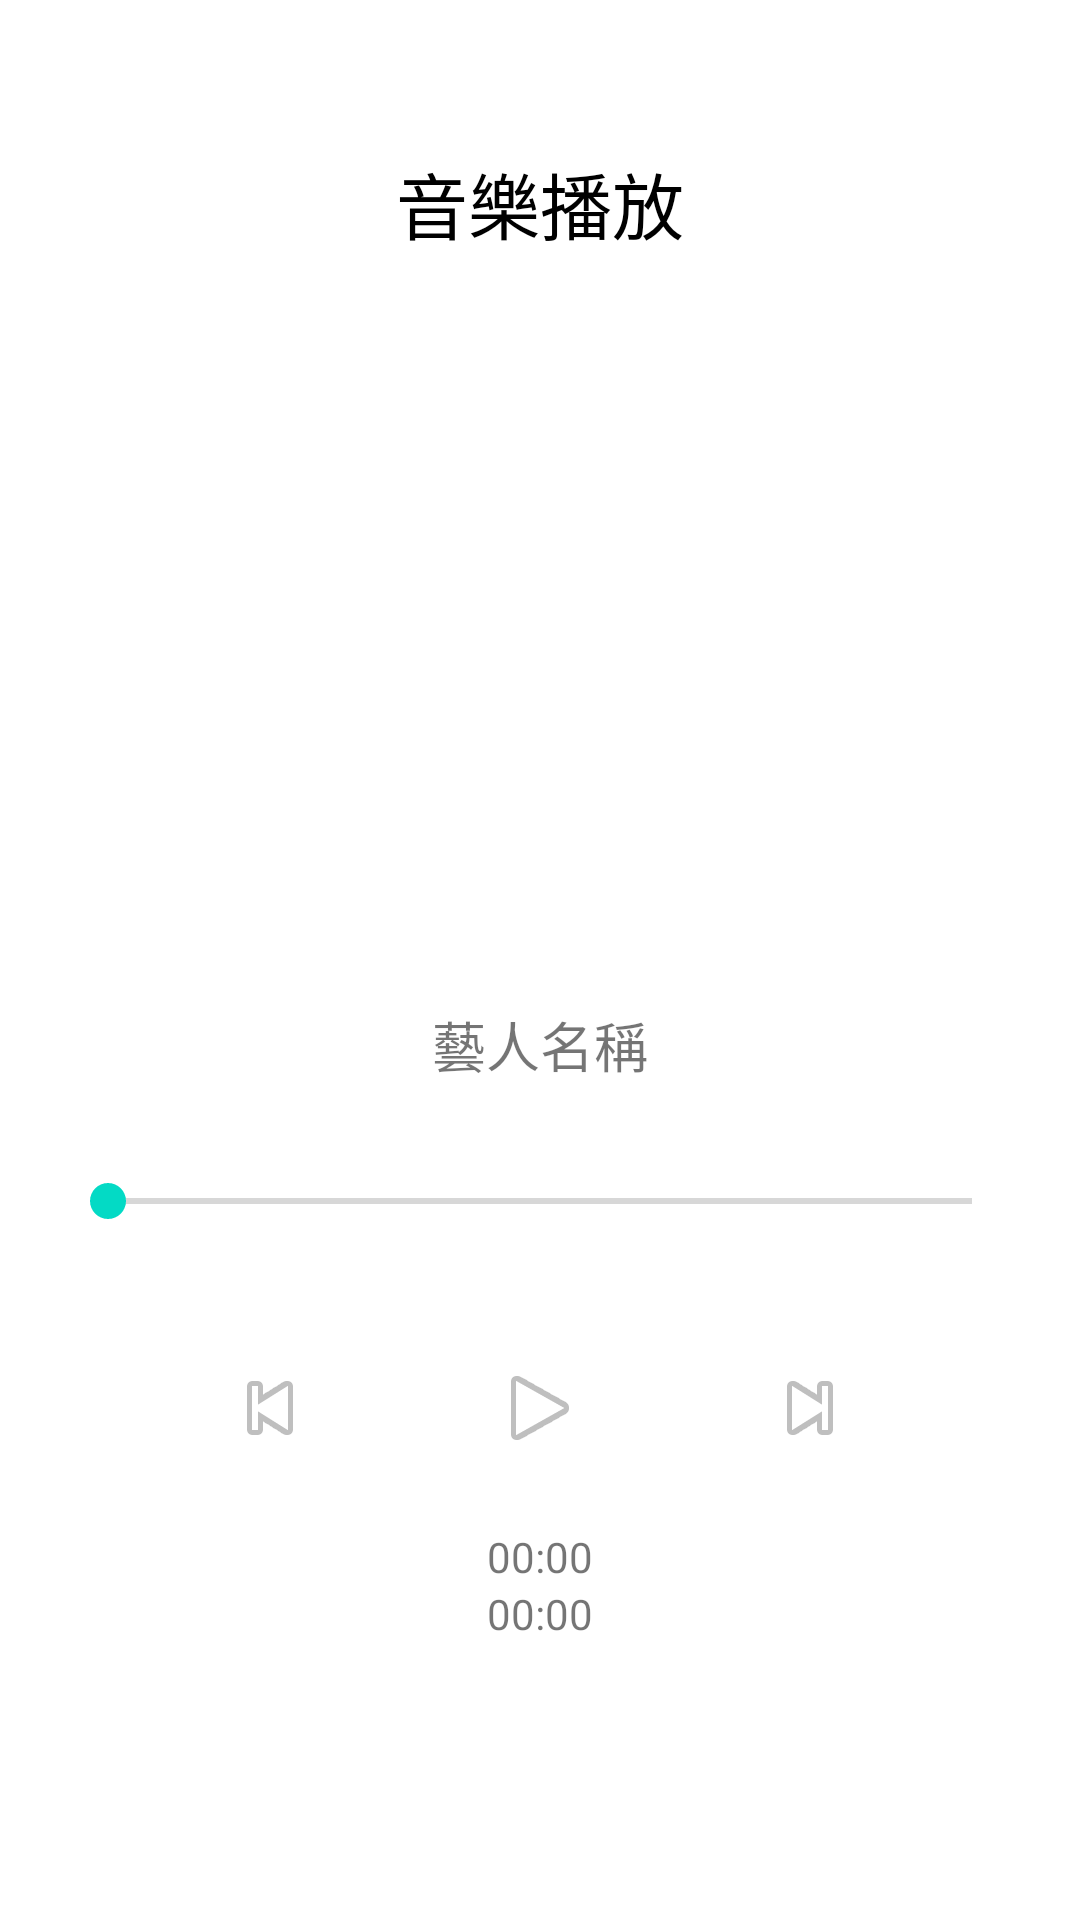

Icons on this 1080x1920 Android screen, each with its box as (x1,y1,x2,y2):
next: (787,1381,833,1435)
play: (511,1376,569,1440)
previous: (247,1381,293,1435)
